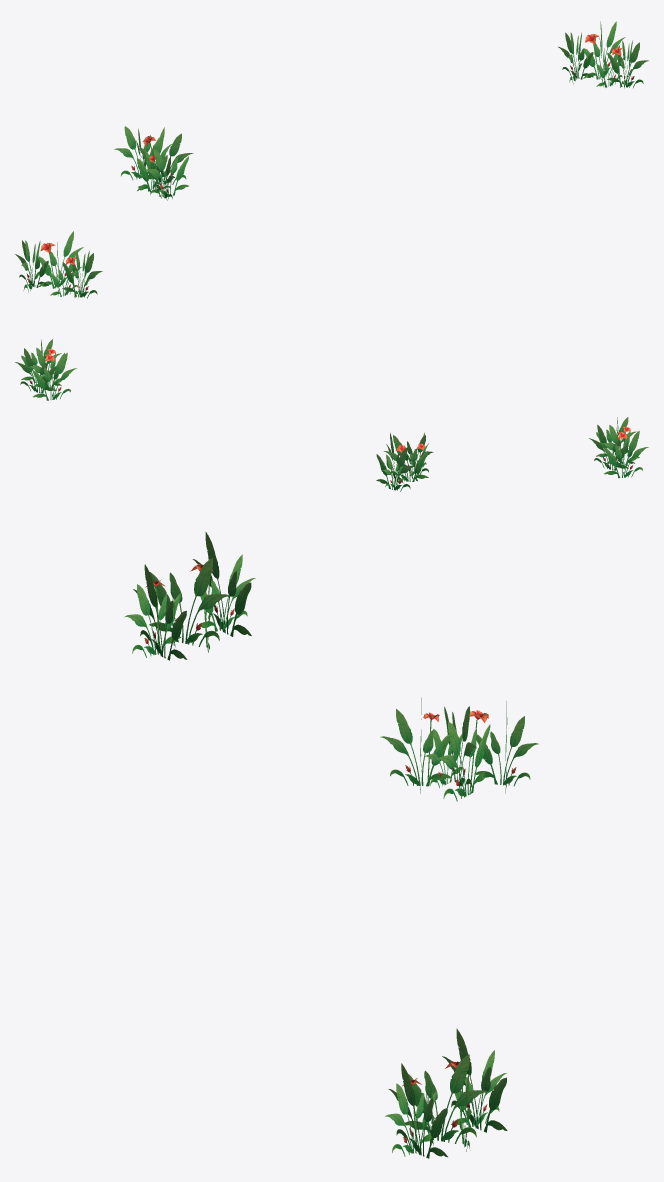
The model's file is area_06_13.fbx.
3 views of the same model, one above another, from view 1: azimuth 30°, elevation 25°; view 2: azimuth 150°, elevation 25°; view 3: azimuth 270°, elevation 25° (orthographic). The views are drawn at different scales.
Visible parts, largest first — view 1: area_06_13; view 2: area_06_13; view 3: area_06_13.
Part boxes in pixels (left/top/right/bottom): area_06_13: left=15, top=21, right=648, bottom=298; area_06_13: left=15, top=339, right=648, bottom=491; area_06_13: left=124, top=532, right=538, bottom=1158.
Size of the model in its own units: 19.7 by 1.55 by 6.28.
